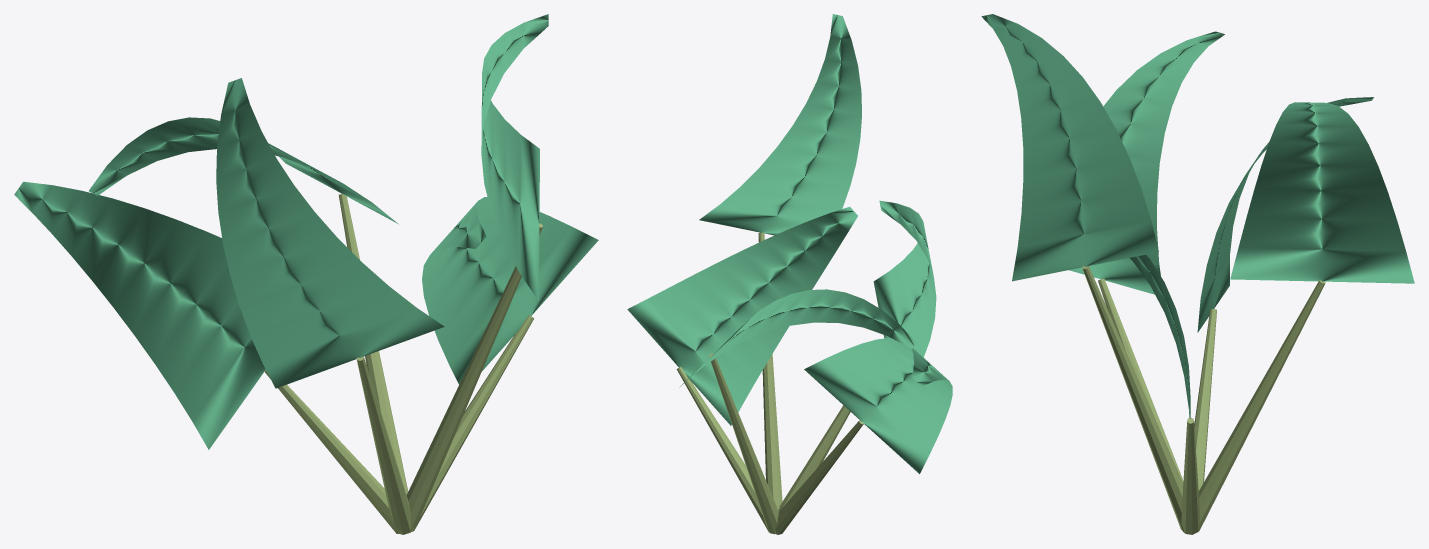
File: taro.glb
3 renders of one model, left to right at view 1: azimuth 30°, elevation 25°; view 2: azimuth 150°, elevation 25°; view 3: azimuth 270°, elevation 25°, orthographic. The views are drawn at different scales.
Parts seen in each view (by area): view 1: giant-taro; view 2: giant-taro; view 3: giant-taro.
Part boxes in pixels (x1,y1,x2,y2): giant-taro: (14,14,598,534); giant-taro: (627,14,952,534); giant-taro: (981,14,1414,534).
Bounding box in the file's own units: 1.72 × 2 × 1.47.
